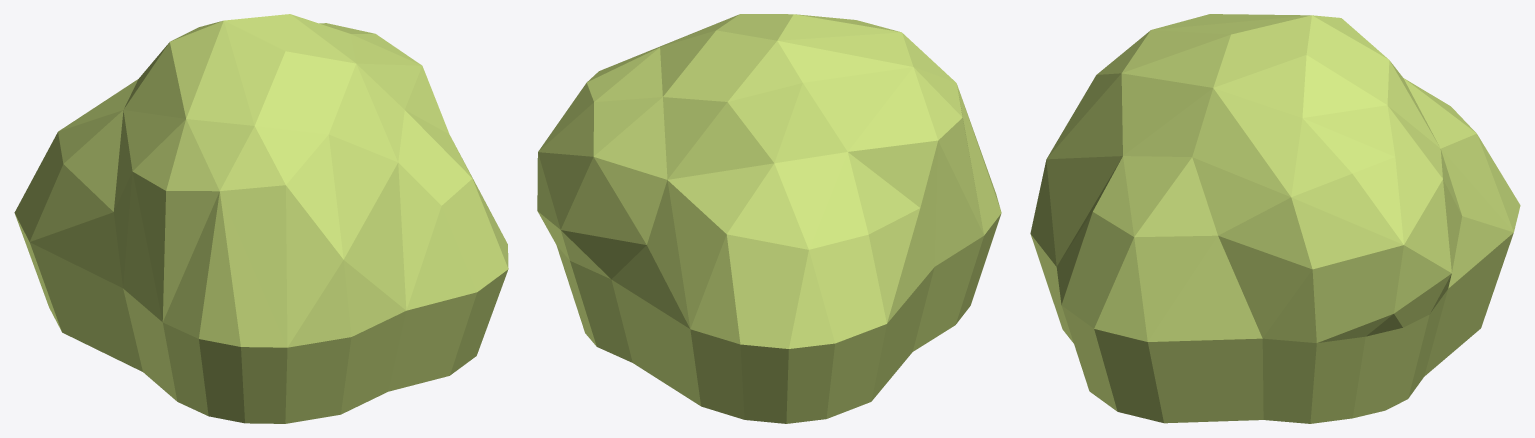
Rendered from Bush_b_l_03.fbx.
The picture shows the model from 3 angles, left to right: view 1: azimuth 30°, elevation 25°; view 2: azimuth 150°, elevation 25°; view 3: azimuth 270°, elevation 25°; orthographic projection. The views are drawn at different scales.
Visible parts, largest first — view 1: Bush_b_l_03; view 2: Bush_b_l_03; view 3: Bush_b_l_03.
Boxes of the visible parts, <box> form: Bush_b_l_03: <box>14,14,508,423</box>; Bush_b_l_03: <box>537,14,1001,423</box>; Bush_b_l_03: <box>1030,14,1520,423</box>.
Size of the model in its own units: 2.52 by 2.02 by 2.83.
